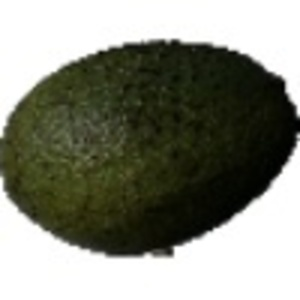abacate: (1, 35, 298, 256)
